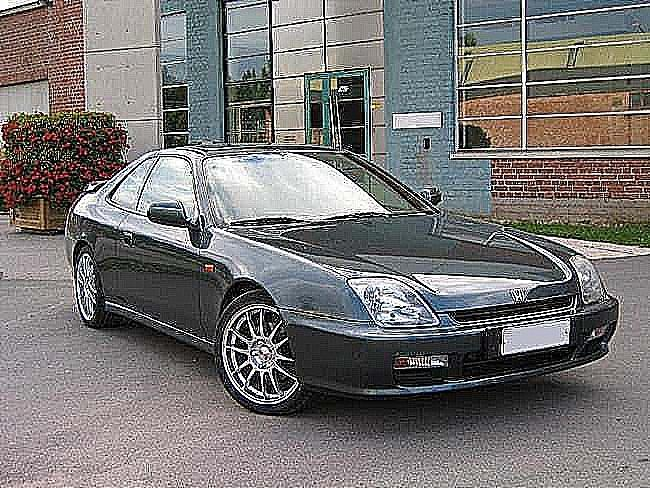Car hood: (215, 209, 595, 313)
Driver-s door - -F-R-: (115, 150, 200, 339)
Fender - -F-R-: (197, 217, 373, 351)
Fender - -R-R-: (73, 191, 112, 307)
Front bumper: (272, 301, 627, 407)
Headlight - -L-: (562, 246, 616, 313)
Headlight - -R-: (342, 272, 445, 334)
Side bumper - -R-: (97, 296, 221, 360)
Side mirror - -L-: (416, 180, 451, 210)
Side mirror - -R-: (142, 196, 197, 234)
